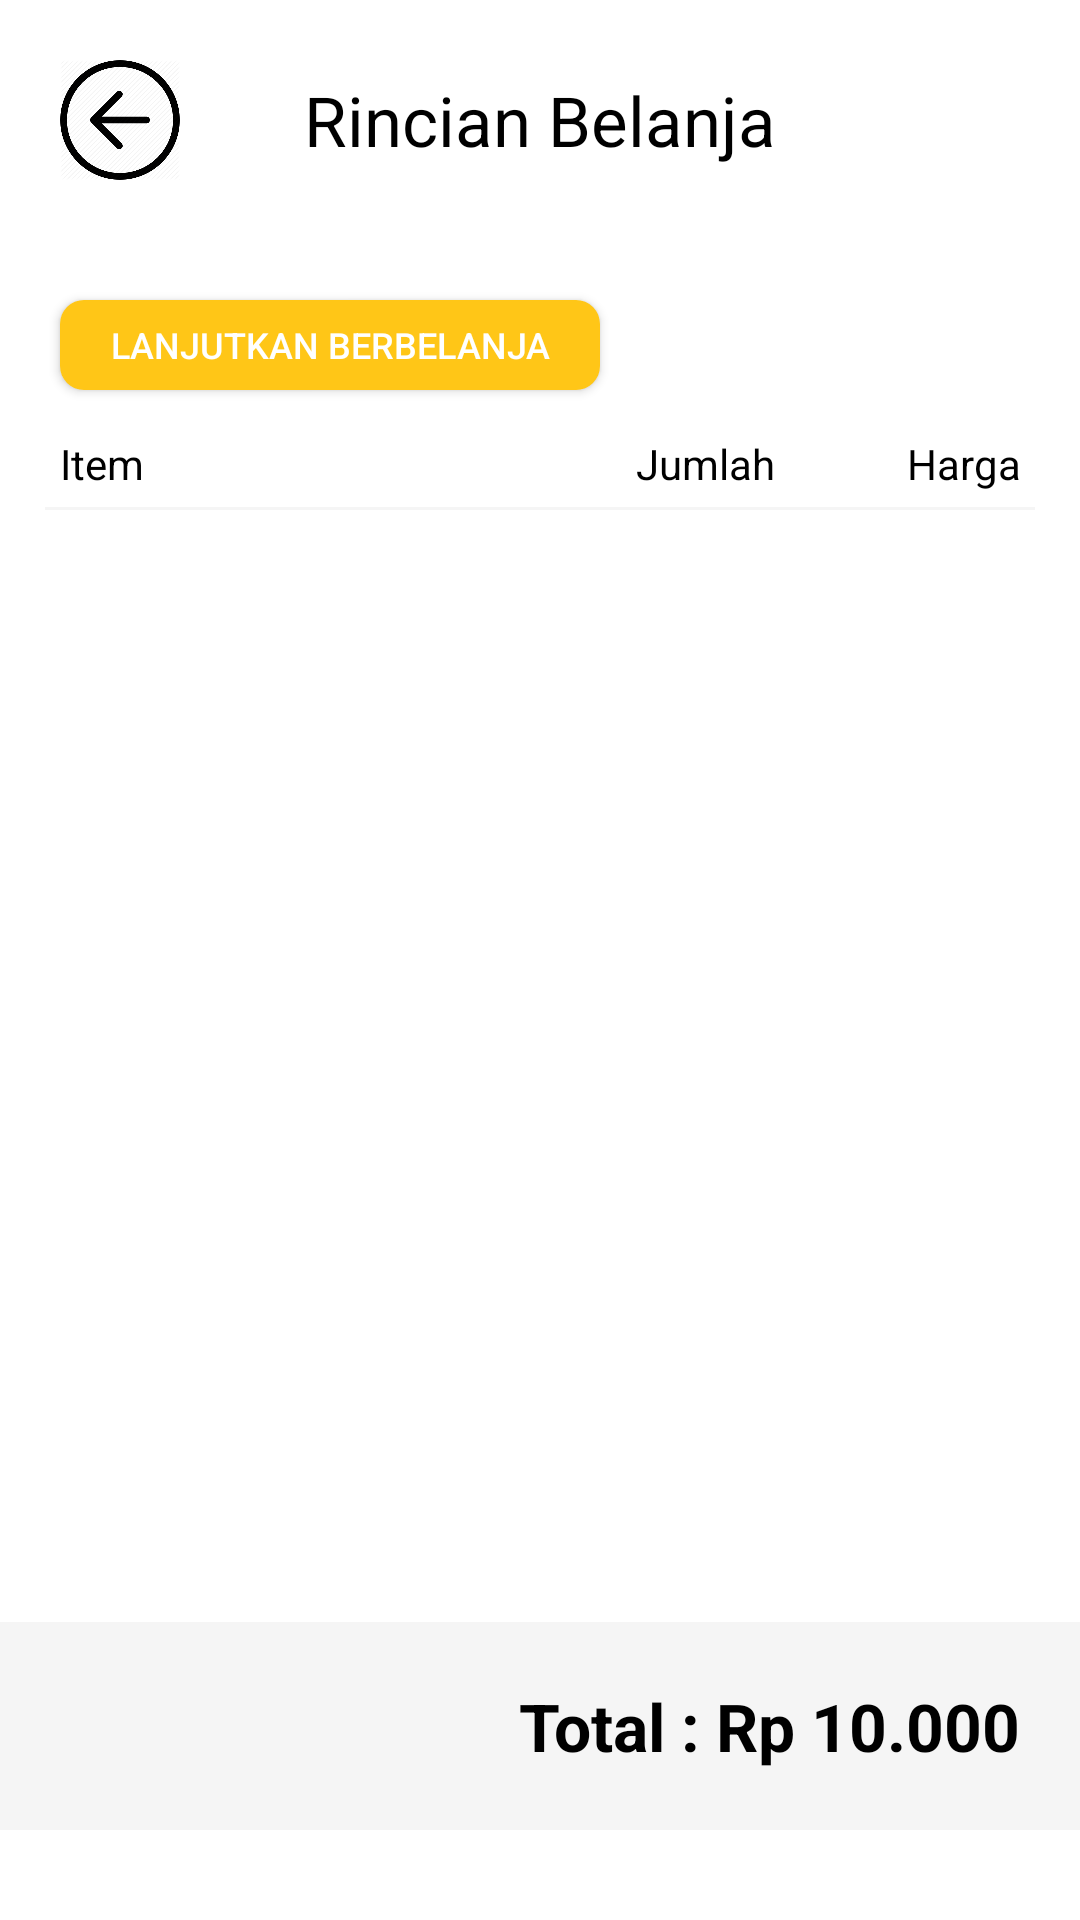

Where to tap for icons on this 1080x1920 app screen, as [x,y]:
left arrow: [120,120]
